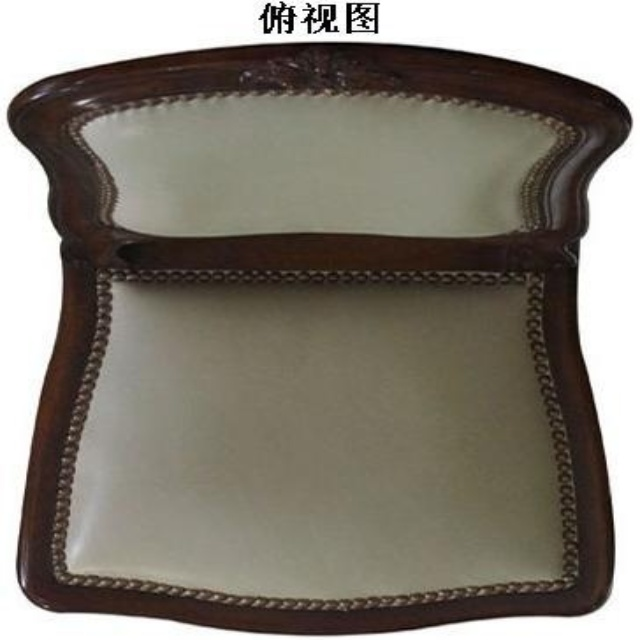obstacle: (9, 43, 629, 632)
